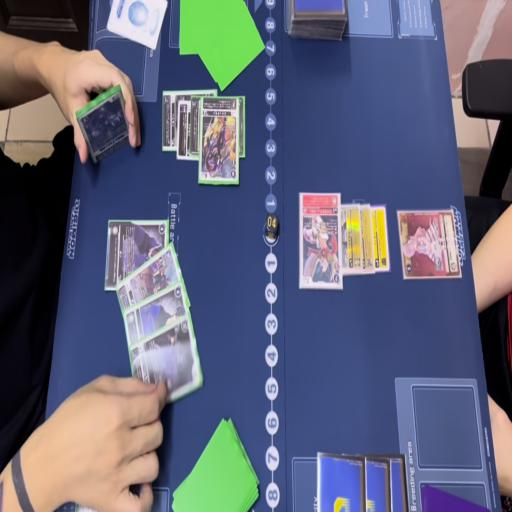card: (124, 317, 201, 414), (105, 208, 168, 298), (116, 240, 183, 318), (120, 278, 188, 351), (298, 192, 343, 292), (76, 87, 130, 169), (398, 210, 460, 280), (198, 92, 241, 190), (341, 202, 363, 276), (372, 201, 388, 283), (160, 89, 181, 149), (361, 196, 374, 276), (178, 98, 192, 156), (192, 94, 202, 154)
